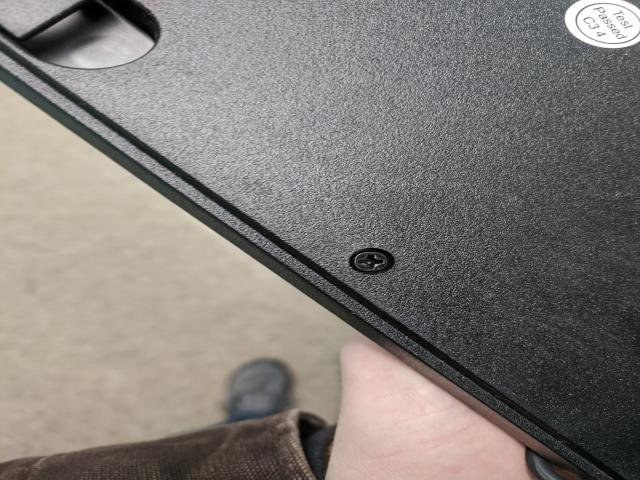CRS: (351, 251, 394, 273)
